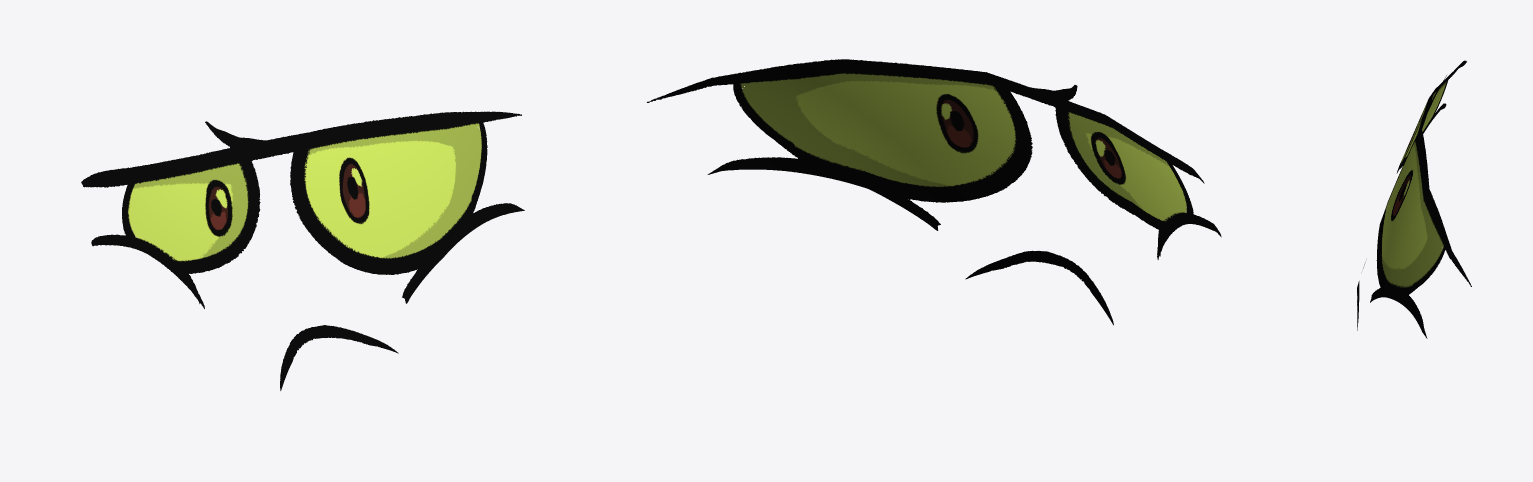
The model's file is rosto_guarana.fbx.
The picture shows the model from 3 angles, left to right: view 1: azimuth 30°, elevation 25°; view 2: azimuth 150°, elevation 25°; view 3: azimuth 270°, elevation 25°; orthographic projection. The views are drawn at different scales.
Visible parts, largest first — view 1: polySurface6; view 2: polySurface6; view 3: polySurface6.
Part boxes in pixels (left/top/right/bottom): polySurface6: left=81, top=111, right=524, bottom=390; polySurface6: left=647, top=59, right=1221, bottom=325; polySurface6: left=1357, top=60, right=1471, bottom=338.
Size of the model in its own units: 56.27 by 29.2 by 17.56.
